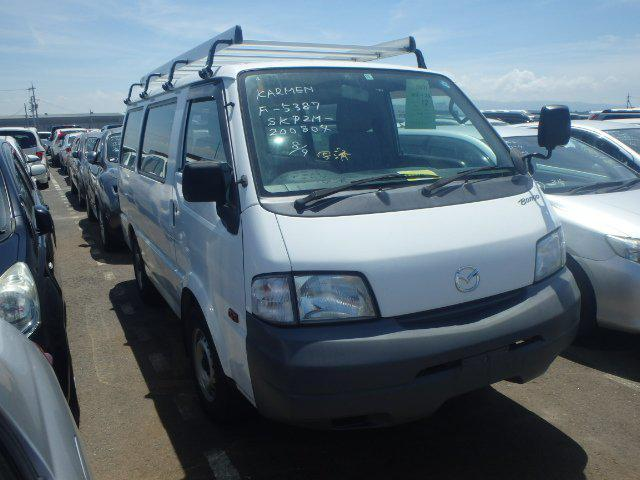Van: (119, 49, 584, 420)
